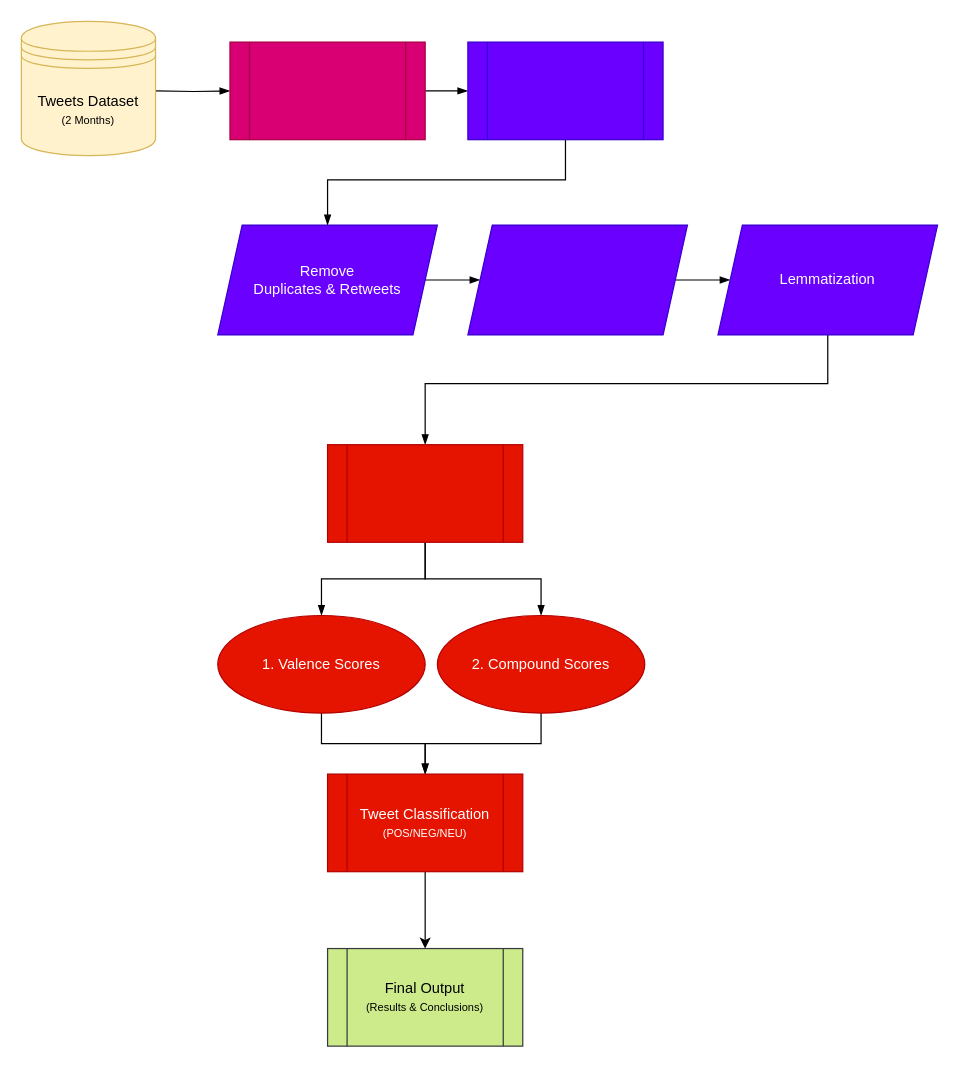
Image size: 959x1068. Some labels were removed from this diagram. The box of each missing label's shape, as (x1, y1, x2, y2) in pixels:
Data Collection: (229, 41, 425, 140)
Polarity Classification: (326, 443, 523, 542)
Pre-Processing: (467, 41, 663, 140)
Remove URL/Handlers: (467, 224, 687, 335)
